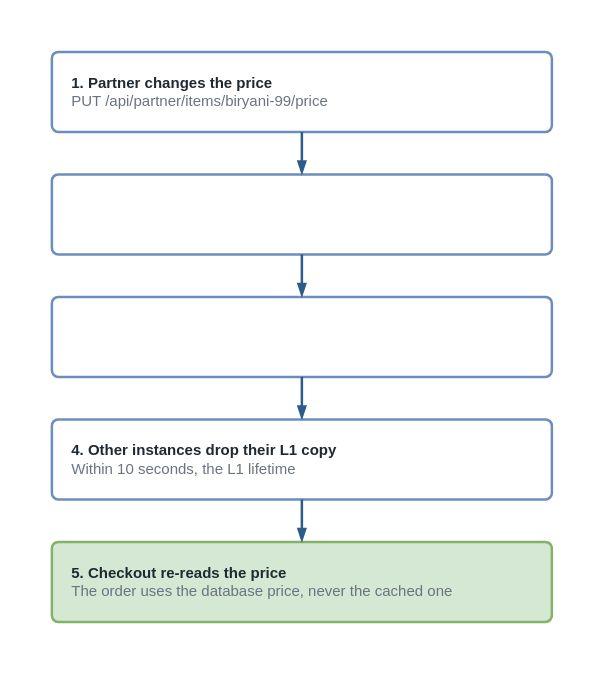
This 603x673 diagram has some shape labels left out. Here are the shapes that lost their labels. From the top down, the centre of each, then its label:
pixel 301 213: 2. Write Azure SQL first UPDATE dbo.MenuItems: the source of truth
pixel 301 336: 3. Delete the Redis key Delete, do not update. The next read rebuilds it
